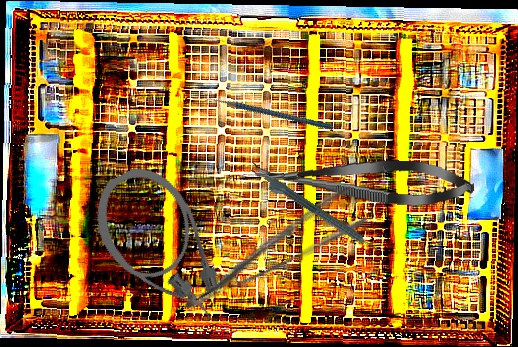Cannula: (79, 154, 240, 347)
Chopper: (197, 59, 335, 171)
Dressing Forceps: (166, 182, 371, 315)
Handpiece: (259, 172, 380, 259)
Micro Scissor: (249, 150, 476, 210)
